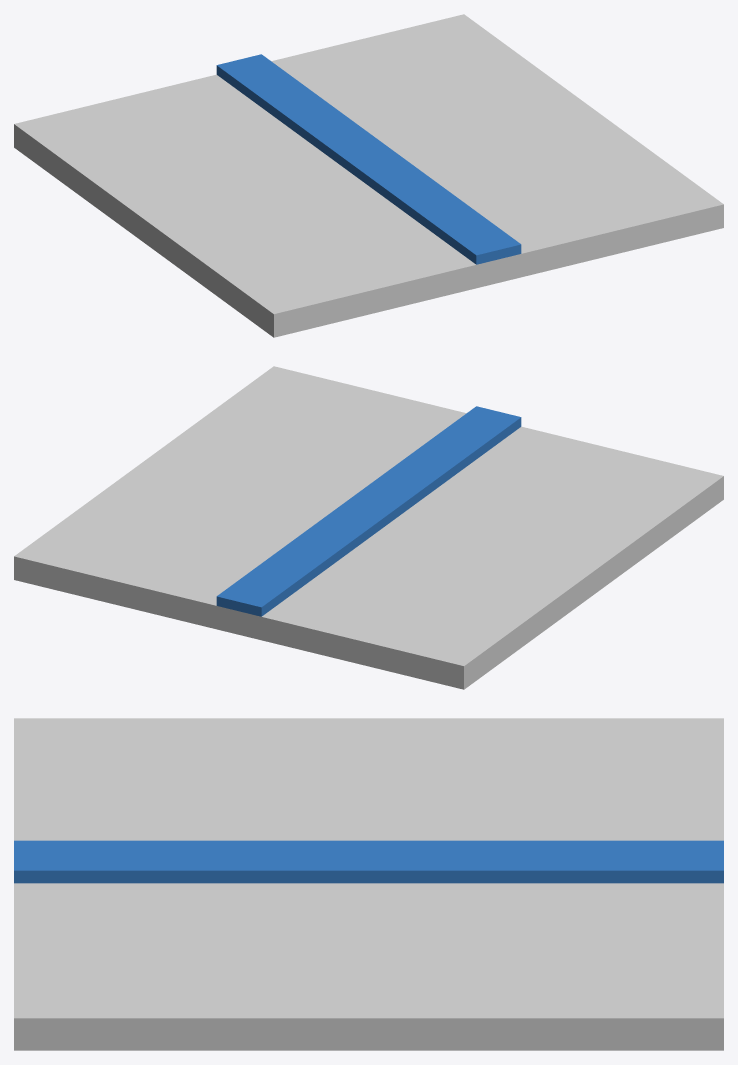
Rendered from 3DTile2.fbx.
3 renders of one model, top to bottom at view 1: azimuth 30°, elevation 25°; view 2: azimuth 150°, elevation 25°; view 3: azimuth 270°, elevation 25°, orthographic. The views are drawn at different scales.
Visible parts, largest first — view 1: Plane.001; view 2: Plane.001; view 3: Plane.001.
Part boxes in pixels (box(x1,y1,x2,y2)): Plane.001: box(14, 14, 723, 337); Plane.001: box(14, 366, 723, 689); Plane.001: box(14, 718, 723, 1050).
Size of the model in its own units: 20000 by 1400 by 20000.
